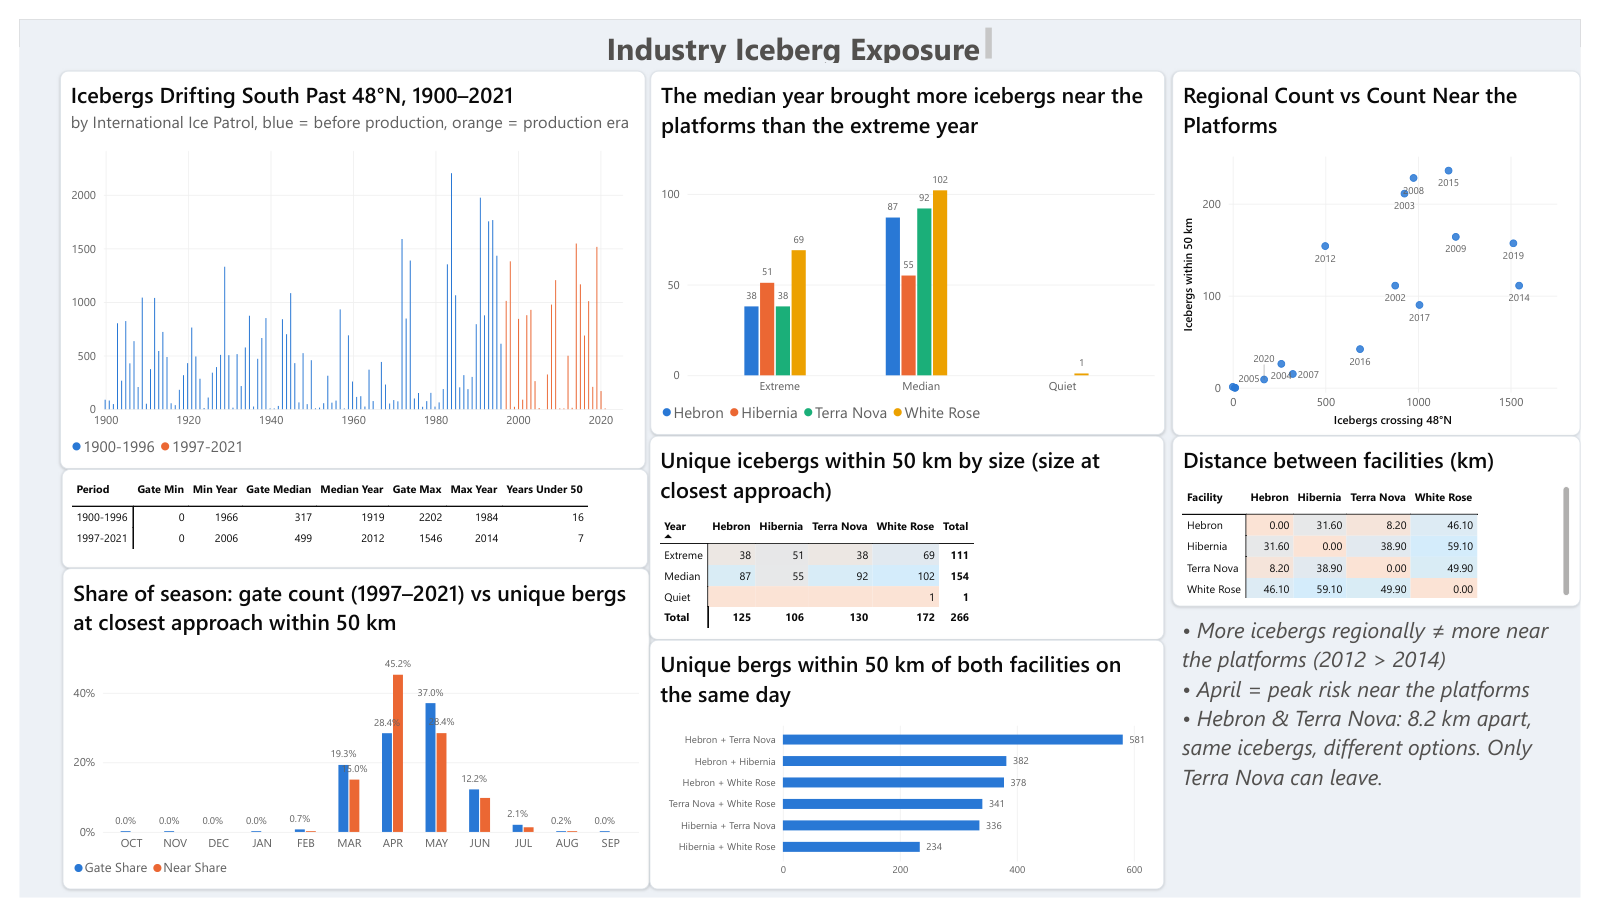

The page's visual inventory and layout, read from the dashboard file:
{"tool":"powerbi","page":{"name":"1 Exposure","canvas":[1920,1080],"ordinal":0},"visuals":[{"type":"textbox","box":[710,0,498.3,63.3],"z":0},{"type":"clusteredColumnChart","title":"Icebergs Drifting South Past 48°N, 1900–2021","fields":{"Category":["iip_counts_wide.YEAR"],"Series":["iip_counts_wide.period"],"Y":["Sum(iip_counts_wide.TOTAL)"]},"box":[50,63.3,720,490],"z":1},{"type":"pivotTable","fields":{"Rows":["iip_counts_wide.period"],"Values":["_Measures.Gate Min","_Measures.Min Year","_Measures.Gate Median","_Measures.Median Year","_Measures.Gate Max","_Measures.Max Year","_Measures.Years Under 50"]},"box":[51.7,553.3,721.7,121.7],"z":2},{"type":"clusteredColumnChart","title":"Share of season: gate count (1997–2021) vs unique bergs at closest approach within 50 km","fields":{"Category":["dim_months.month"],"Y":["_Measures.Gate Share","_Measures.Near Share"]},"box":[53.3,675,721.7,395],"z":3},{"type":"clusteredColumnChart","title":"The median year brought more icebergs near the platforms than the extreme year","fields":{"Category":["s1_closest_by_facility.year_type"],"Series":["s1_closest_by_facility.facility_name"],"Y":["_Measures.Unique Bergs 50km"]},"box":[775.7,62.9,632.9,448.6],"z":4},{"type":"pivotTable","title":"Unique icebergs within 50 km by size (size at closest approach)","fields":{"Columns":["s1_closest_by_facility.facility_name"],"Rows":["s1_closest_by_facility.year_type"],"Values":["_Measures.Unique Bergs 50km"]},"box":[775,511.7,633.3,251.7],"z":5},{"type":"scatterChart","title":"Regional Count vs Count Near the Platforms","fields":{"Category":["s1_rank_by_year.iceberg_year"],"X":["Sum(s1_rank_by_year.gate)"],"Y":["Sum(s1_rank_by_year.near_50km)"]},"box":[1418.3,63.3,501.7,448.3],"z":6},{"type":"pivotTable","title":"Distance between facilities (km)","fields":{"Columns":["s1_facility_distance.facility_b"],"Rows":["s1_facility_distance.facility_a"],"Values":["Sum(s1_facility_distance.km)"]},"box":[1418.3,511.7,501.7,210],"z":7},{"type":"clusteredBarChart","title":"Unique bergs within 50 km of both facilities on the same day","fields":{"Category":["s1_same_day_pairs.pair"],"Y":["Sum(s1_same_day_pairs.unique_bergs_same_day)"]},"box":[775,763.3,633.3,306.7],"z":8},{"type":"textbox","box":[1418.3,721.7,501.7,288.3],"z":9}]}

Visuals, with their boxes in screenshot pixels (x1, y1, x2, y2), scaled from the page's 1920x1080 canvas onto the 1600x918 screenshot:
textbox: 592:0:1007:54
"Icebergs Drifting South Past 48°N, 1900–2021" clusteredColumnChart: 42:54:642:470
pivotTable - iip_counts_wide.period x _Measures.Gate Min: 43:470:645:574
"Share of season: gate count (1997–2021) vs unique bergs at closest approach within 50 km" clusteredColumnChart: 44:574:646:910
"The median year brought more icebergs near the platforms than the extreme year" clusteredColumnChart: 646:53:1174:435
"Unique icebergs within 50 km by size (size at closest approach)" pivotTable: 646:435:1174:649
"Regional Count vs Count Near the Platforms" scatterChart: 1182:54:1599:435
"Distance between facilities (km)" pivotTable: 1182:435:1599:613
"Unique bergs within 50 km of both facilities on the same day" clusteredBarChart: 646:649:1174:910
textbox: 1182:613:1599:858
